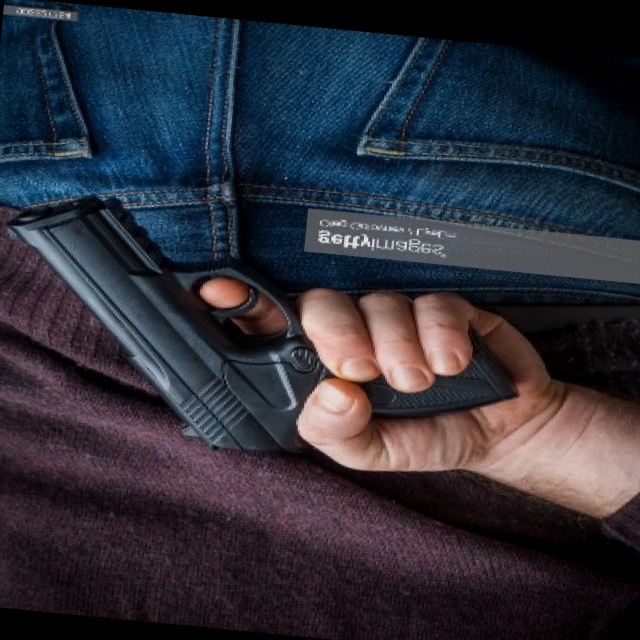gun: (0, 188, 533, 483)
